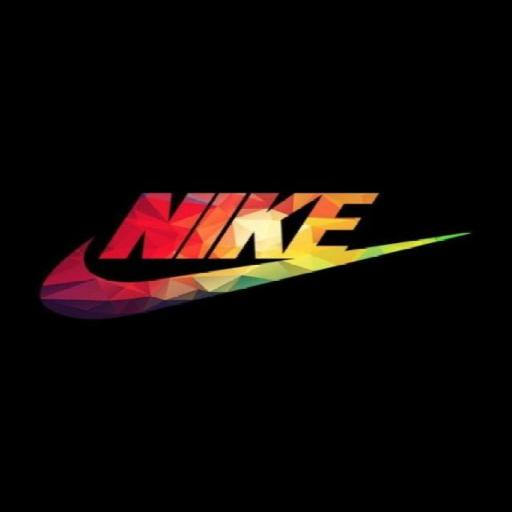Nike: (35, 230, 478, 324), (93, 189, 384, 264)
